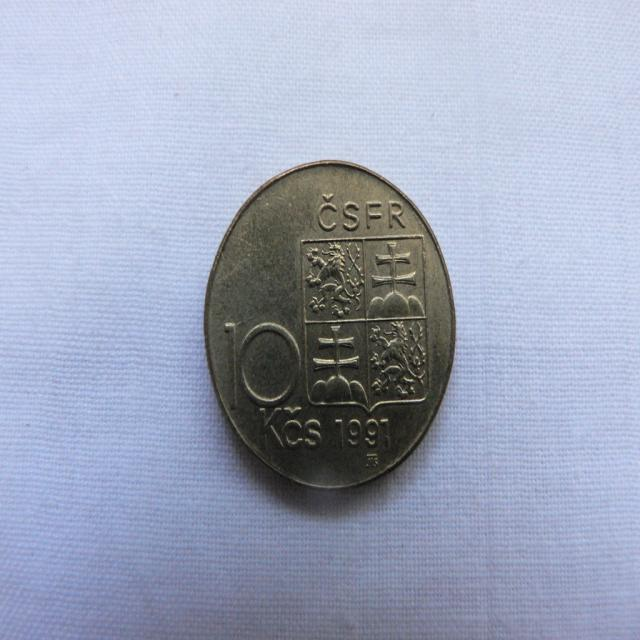Coin: (199, 153, 457, 493)
